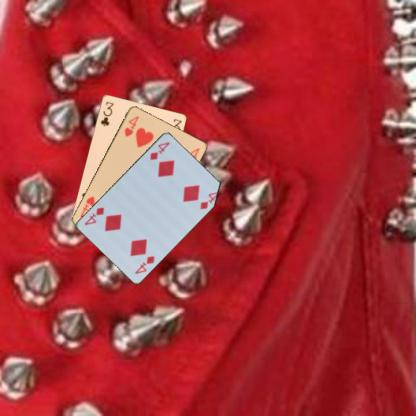3c: (98, 98, 115, 127)
4d: (147, 139, 171, 161), (132, 253, 156, 275)
4h: (122, 113, 140, 138)
